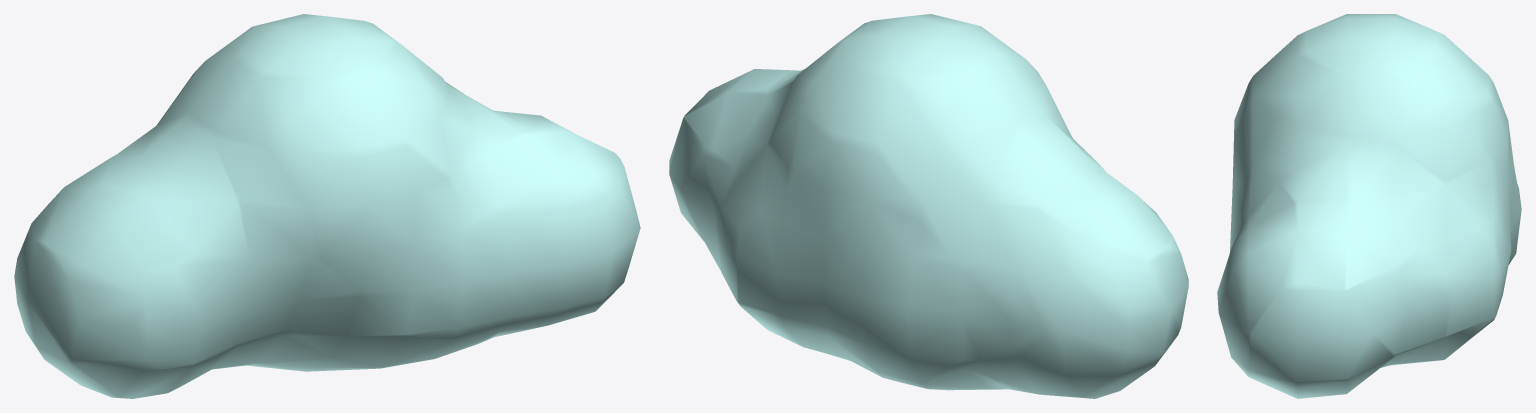
The model's file is cloud.glb.
3 views of the same model, side by side, from view 1: azimuth 30°, elevation 25°; view 2: azimuth 150°, elevation 25°; view 3: azimuth 270°, elevation 25° (orthographic). The views are drawn at different scales.
Parts seen in each view (by area): view 1: Cloud; view 2: Cloud; view 3: Cloud.
Boxes of the visible parts, <box> form: Cloud: <box>14,14,640,398</box>; Cloud: <box>669,14,1188,398</box>; Cloud: <box>1217,14,1521,398</box>.
Bounding box in the file's own units: 4.9 × 2.84 × 2.58.
